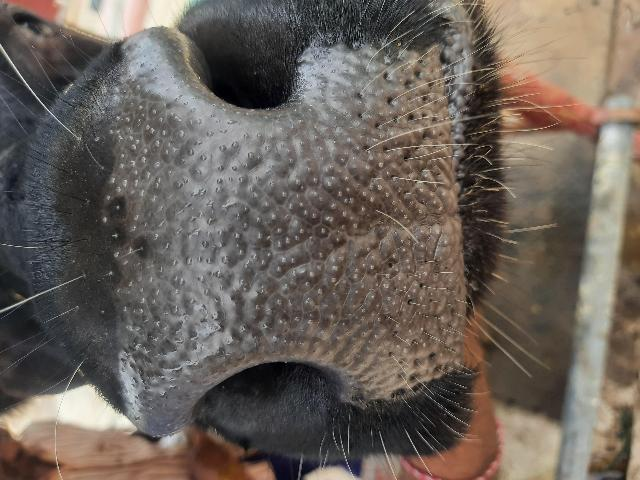Muzzle: (122, 116, 464, 354)
